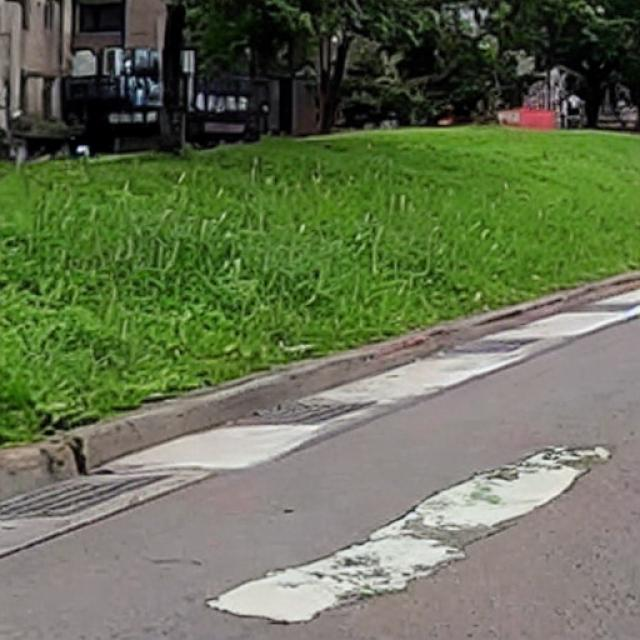puddle: (207, 447, 597, 626)
